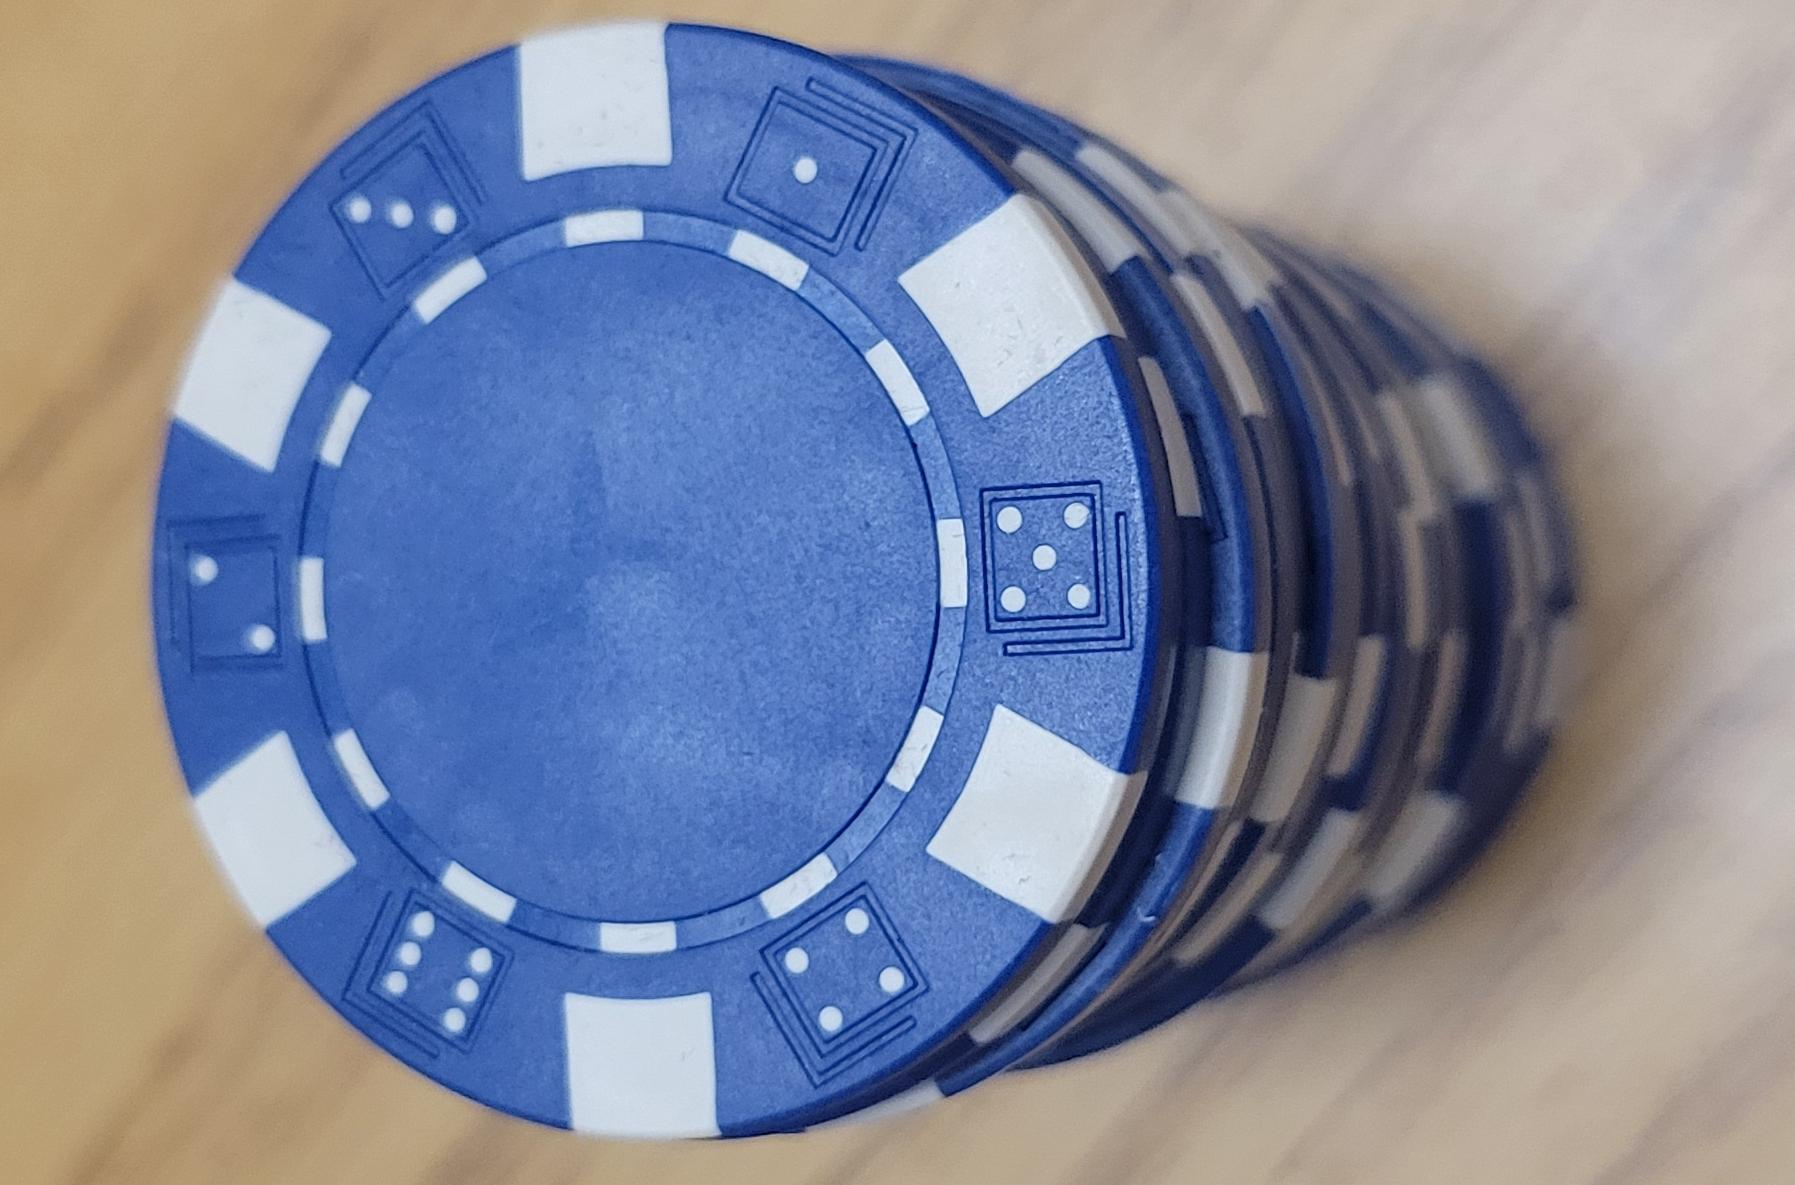Chip: (1, 298, 1056, 1185)
